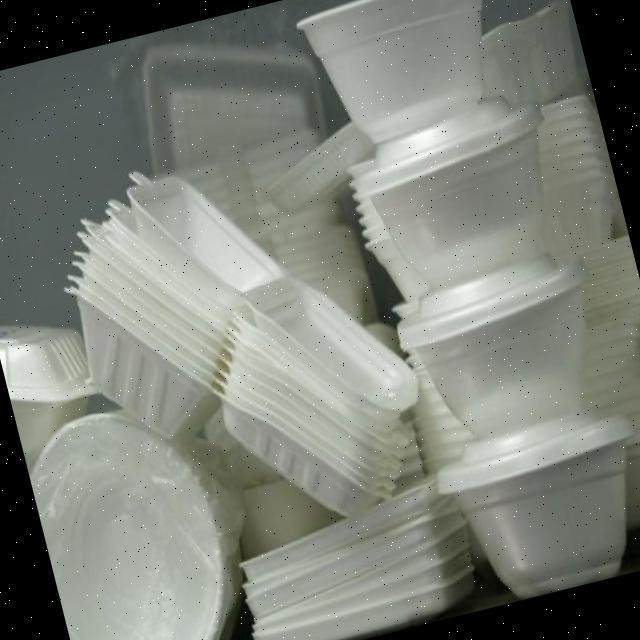styrofoam: (0, 0, 640, 640), (39, 114, 446, 572)
